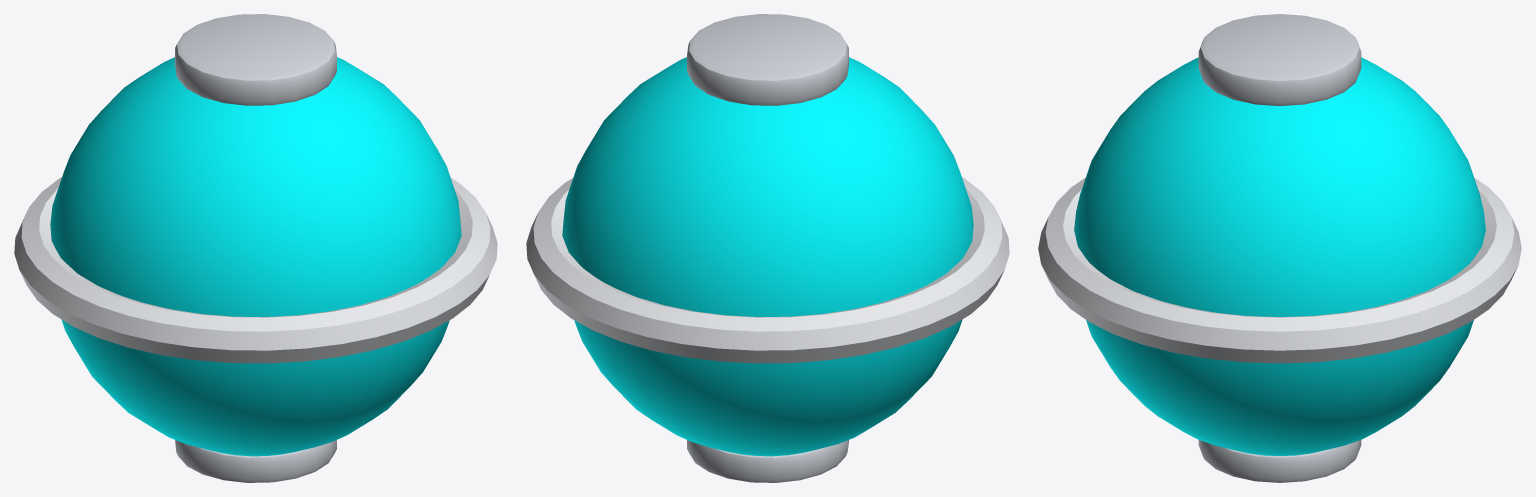
File: charge_emitter.glb
3 views of the same model, side by side, from view 1: azimuth 30°, elevation 25°; view 2: azimuth 150°, elevation 25°; view 3: azimuth 270°, elevation 25° (orthographic).
Parts seen in each view (by area): view 1: Sphere; view 2: Sphere; view 3: Sphere.
Part boxes in pixels (x1,y1,x2,y2): Sphere: [14, 14, 497, 482]; Sphere: [526, 14, 1009, 482]; Sphere: [1038, 14, 1521, 482].
Size of the model in its own units: 1.07 by 0.99 by 1.07.
